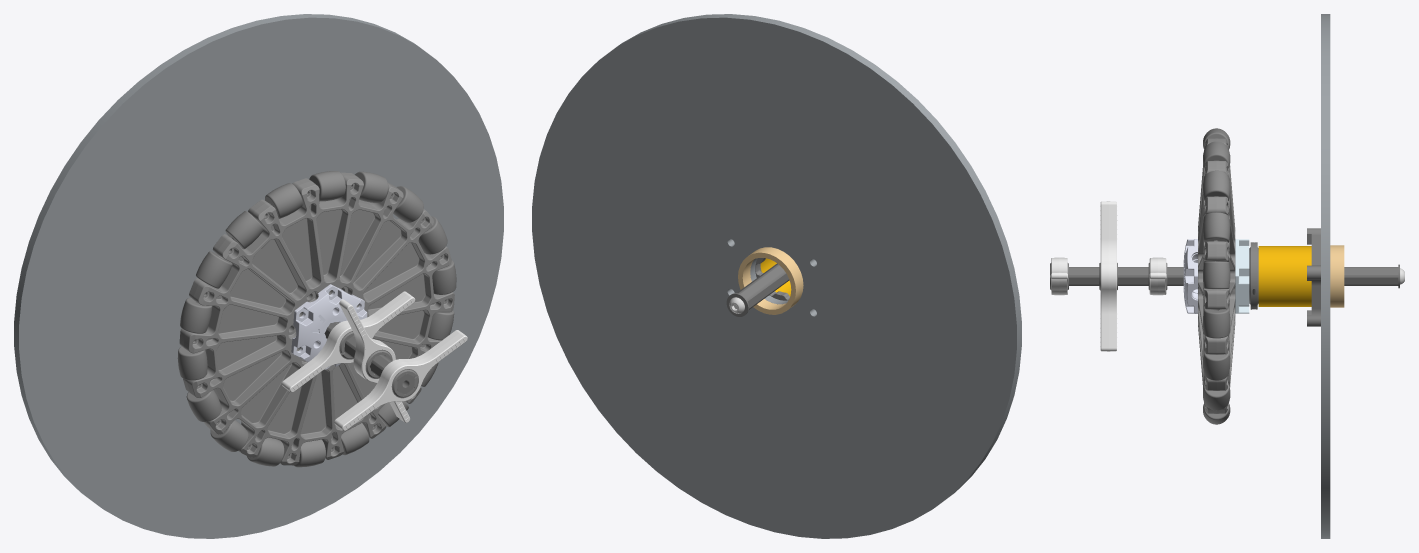
3 renders of one model, left to right at view 1: azimuth 30°, elevation 25°; view 2: azimuth 150°, elevation 25°; view 3: azimuth 270°, elevation 25°, orthographic. The views are drawn at different scales.
Visible parts, largest first — view 1: live_floor, 8 Molded Trick Plate_1, 4in Crown Roller Rubber Omni_14, 4" ION Flap Wheel (30A, 1/2" Hex Bore), Armabot_A0066_F1_Intake_Solidmodel, Shaft; view 2: live_floor, Max_Spacer_B, Shaft; view 3: 4in Crown Roller Rubber Omni_14, live_floor, 8 Molded Trick Plate_1, 4" ION Flap Wheel (30A, 1/2" Hex Bore), MAX_Spacer_C, Shaft, REV-21-2550-P02, Omni_MAX_Adapter, Armabot_A0066_F1_Intake_Solidmodel, Max_Spacer_B, REV-21-3476-P01.
Boxes of the visible parts, x1,y1,x2,y2 form: live_floor: [14, 14, 503, 538]; 8 Molded Trick Plate_1: [179, 172, 454, 465]; 4in Crown Roller Rubber Omni_14: [177, 171, 456, 467]; 4" ION Flap Wheel (30A, 1/2" Hex Bore): [281, 291, 467, 430]; Armabot_A0066_F1_Intake_Solidmodel: [291, 284, 367, 369]; Shaft: [324, 322, 414, 393]; live_floor: [532, 14, 1021, 538]; Max_Spacer_B: [738, 247, 803, 314]; Shaft: [726, 263, 789, 316]; 4in Crown Roller Rubber Omni_14: [1203, 128, 1230, 424]; live_floor: [1321, 14, 1330, 538]; 8 Molded Trick Plate_1: [1198, 138, 1235, 413]; 4" ION Flap Wheel (30A, 1/2" Hex Bore): [1050, 201, 1167, 351]; MAX_Spacer_C: [1258, 246, 1311, 306]; Shaft: [1050, 264, 1404, 288]; REV-21-2550-P02: [1307, 228, 1320, 326]; Omni_MAX_Adapter: [1235, 239, 1249, 313]; Armabot_A0066_F1_Intake_Solidmodel: [1183, 239, 1197, 313]; Max_Spacer_B: [1330, 245, 1344, 307]; REV-21-3476-P01: [1249, 242, 1258, 309].
Bounding box in the file's own units: 0.3551 × 0.3556 × 0.2402.
